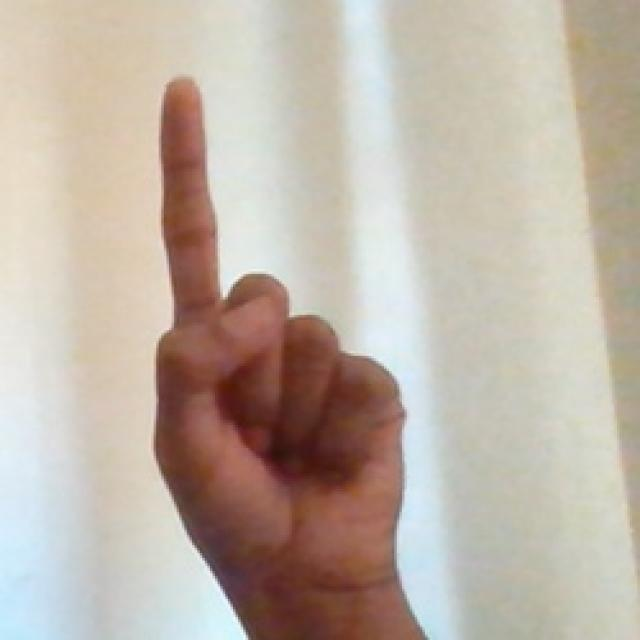Numeric-1: (151, 62, 408, 582)
